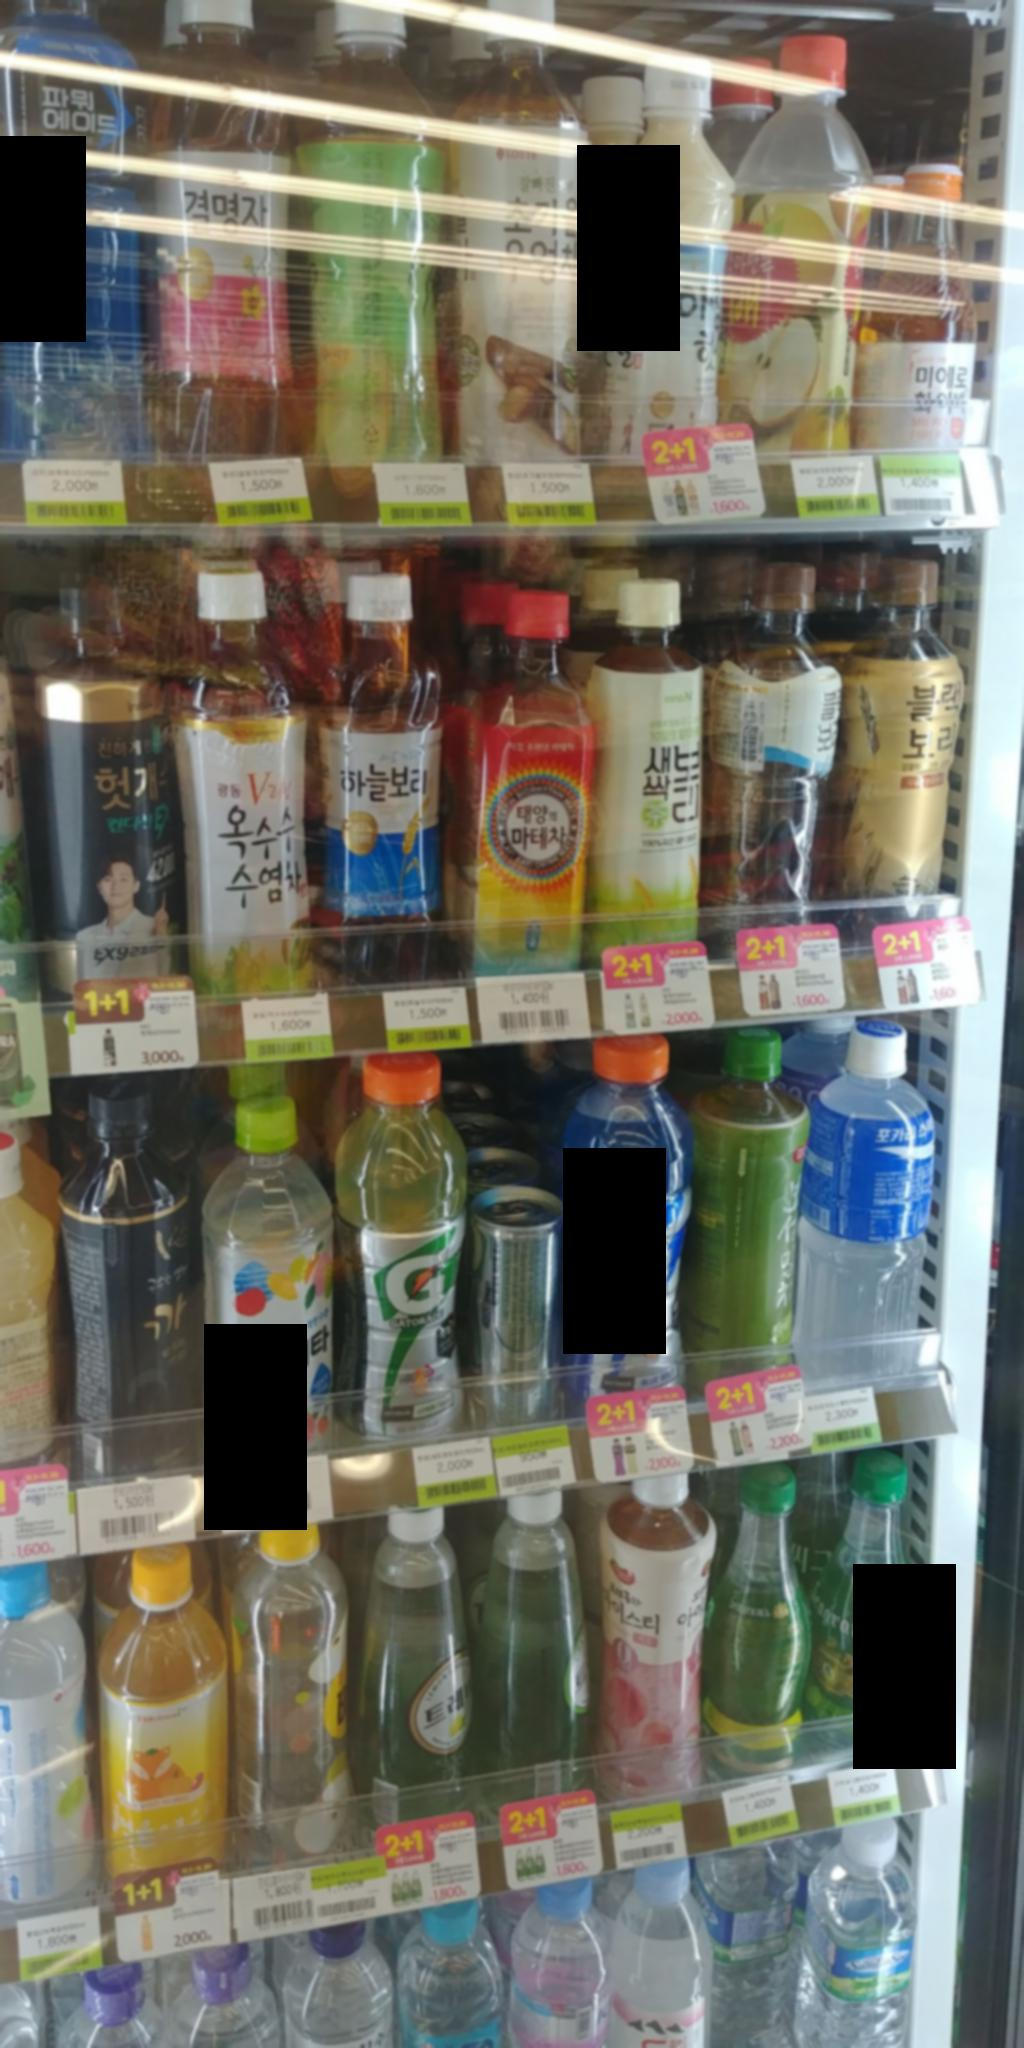gatorade_lemon: (344, 1050, 457, 1434)
haneulbori: (323, 560, 448, 993)
oksususuyeomcha: (172, 555, 307, 991)
pocarisweat: (808, 1024, 952, 1401)
powerade_mountainblast: (0, 0, 153, 455)
toreta: (209, 1096, 341, 1456)
